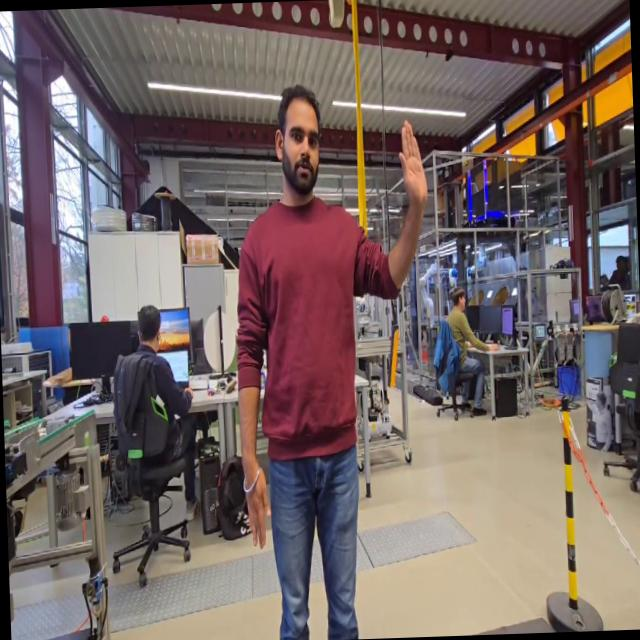open_palm: (392, 113, 434, 216)
